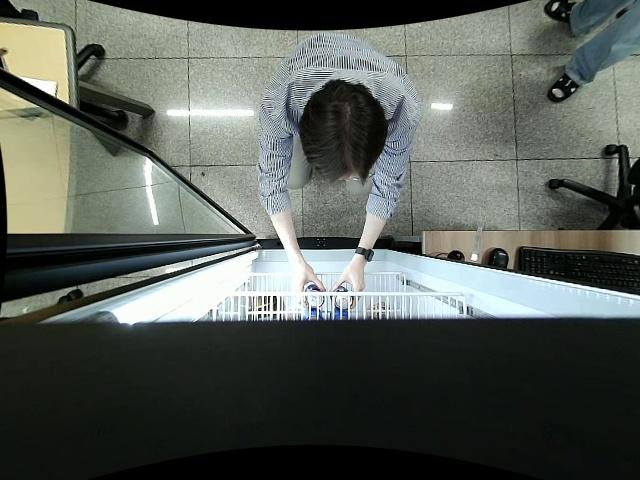00_hand: (325, 263, 364, 315), (293, 268, 325, 309)
14_welchsGrape: (303, 282, 323, 309)
